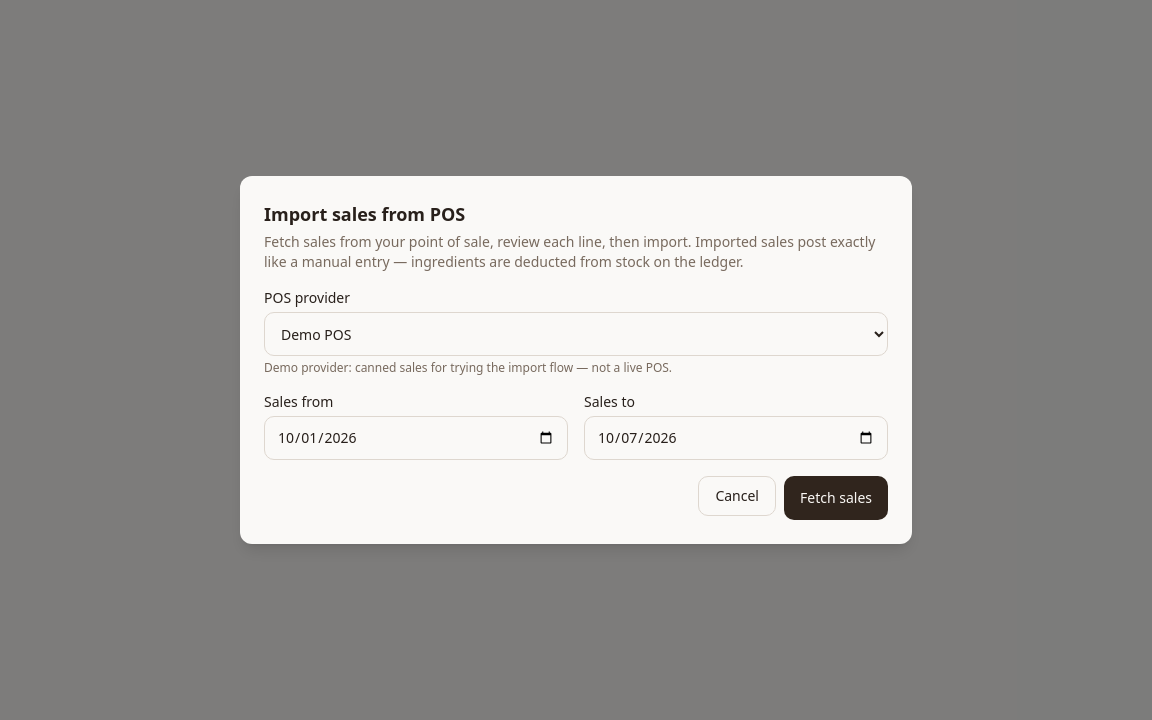
Test case: PosImportDialog › shows an empty state when the provider returns no sales
The width and height of the screenshot is (1152, 720).
Click the button with test id "pos-fetch-button".
click(836, 498)  # box [784,476,888,520]
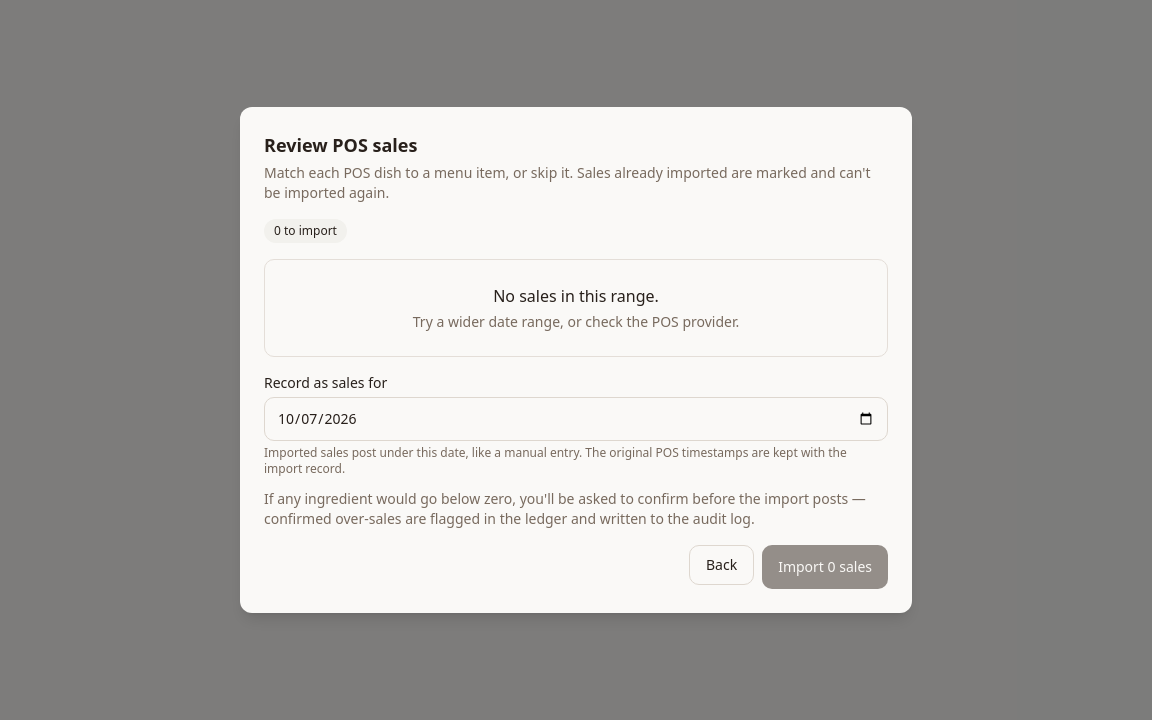
Now the text "No sales in this range." is shown, box [493,285,659,307]
